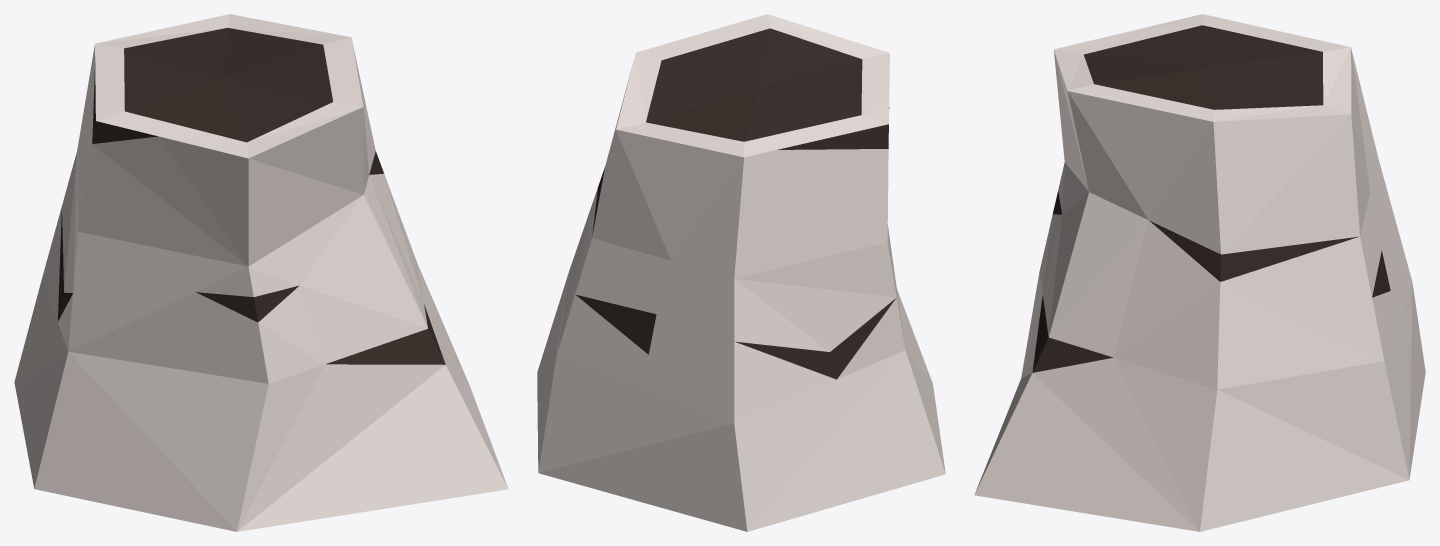
The model's file is SM_Stump_02.fbx.
3 views of the same model, side by side, from view 1: azimuth 30°, elevation 25°; view 2: azimuth 150°, elevation 25°; view 3: azimuth 270°, elevation 25° (orthographic). The views are drawn at different scales.
Visible parts, largest first — view 1: SM_Stump_02; view 2: SM_Stump_02; view 3: SM_Stump_02.
Boxes of the visible parts, left/top/right/bottom form: SM_Stump_02: left=14, top=14, right=508, bottom=531; SM_Stump_02: left=537, top=14, right=945, bottom=531; SM_Stump_02: left=974, top=14, right=1425, bottom=531.
Size of the model in its own units: 211 by 173 by 197.
